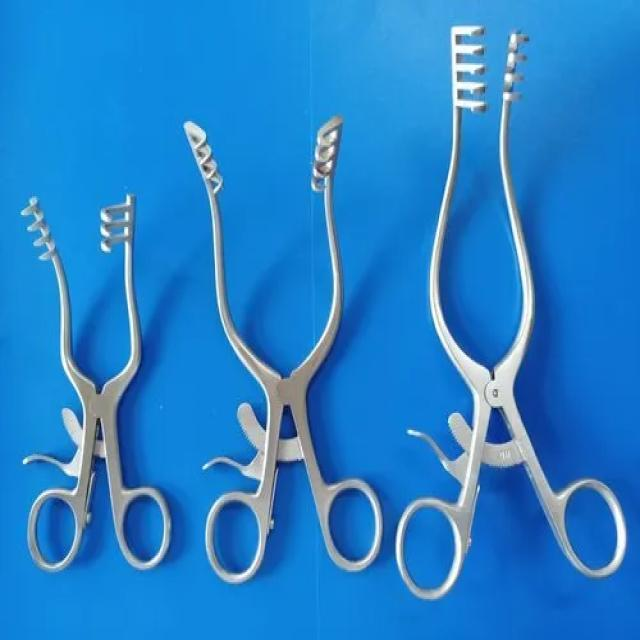Self Retractor: (394, 15, 630, 598), (176, 111, 384, 592), (11, 185, 177, 574)
